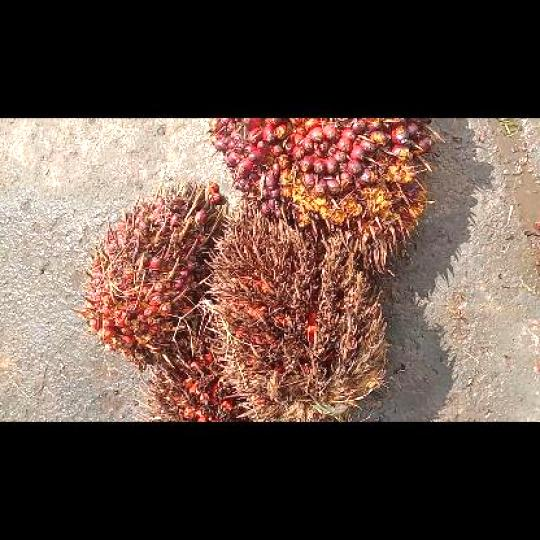masak: (208, 118, 436, 274), (74, 179, 226, 369)
terlalu masak: (206, 198, 389, 420), (136, 330, 248, 420)
